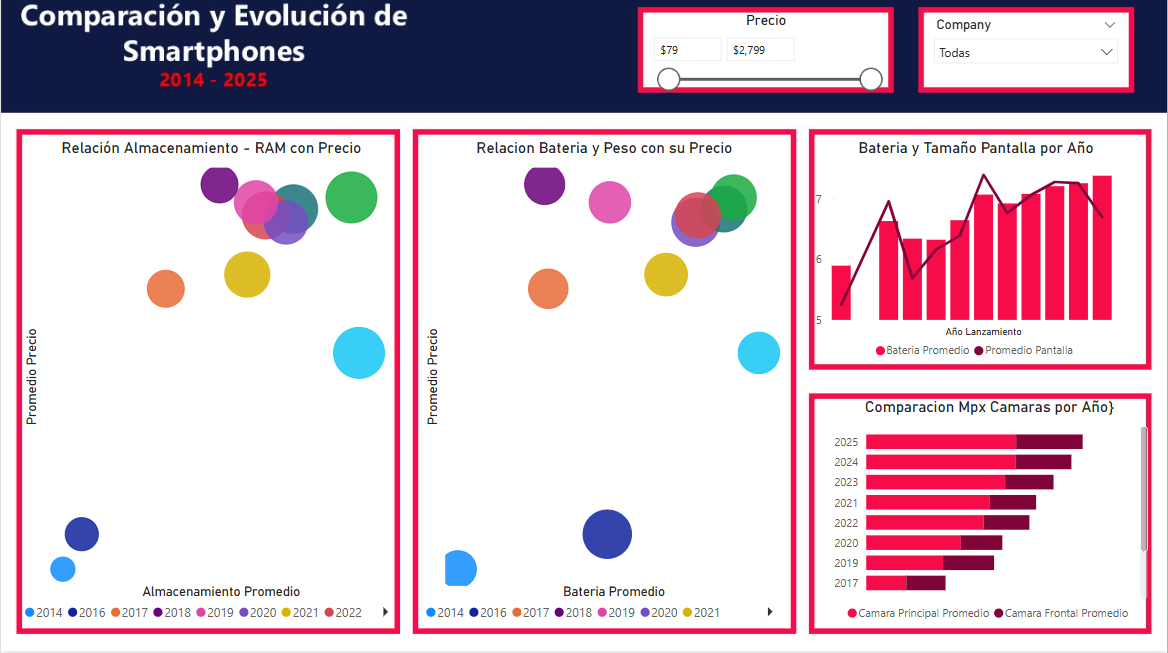

What the dashboard file says about the page in this screenshot:
{"tool":"powerbi","page":{"name":"Especificaciones","canvas":[1280,720],"ordinal":1},"visuals":[{"type":"scatterChart","title":"Relación Almacenamiento - RAM con Precio","fields":{"Series":["Cellphone_v2 (2).Año Lanzamiento"],"Size":["Medidas.Ram Promedio"],"X":["Medidas.Almacenamiento Promedio"],"Y":["Medidas.Promedio Precio"]},"box":[20.4,156.5,420.9,539.5],"z":0},{"type":"scatterChart","title":"Relacion Bateria y Peso con su Precio","fields":{"Y":["Medidas.Promedio Precio"],"X":["Medidas.Bateria Promedio"],"Size":["Medidas.Peso Promedio"],"Series":["Cellphone_v2 (2).Año Lanzamiento"]},"box":[461.7,156.5,402.4,539.5],"z":1000},{"type":"lineClusteredColumnComboChart","title":"Bateria y Tamaño Pantalla por Año","fields":{"Category":["Cellphone_v2 (2).Año Lanzamiento"],"Y2":["Medidas.Promedio Pantalla"],"Y":["Medidas.Bateria Promedio"]},"box":[889.2,156.4,362.3,251.1],"z":2000},{"type":"barChart","title":"Comparacion Mpx Camaras por Año}","fields":{"Category":["Cellphone_v2 (2).Año Lanzamiento"],"Y":["Medidas.Camara Principal Promedio","Medidas.Camara Frontal Promedio"]},"box":[906.9,440.3,356.7,255.7],"z":3000},{"type":"slicer","title":"Precio","fields":{"Values":["Cellphone_v2 (2).Precio USD"]},"box":[703.9,17.8,271.7,97.4],"z":4000},{"type":"slicer","fields":{"Values":["Cellphone_v2 (2).Company"]},"box":[1014.1,17.8,222.3,85.1],"z":5000}]}

Visuals, with their boxes in screenshot pixels (x1, y1, x2, y2), scaled from the page's 1280x720 canvas onto the 1168x653 screenshot:
"Relación Almacenamiento - RAM con Precio" scatterChart: BBox(19, 142, 403, 631)
"Relacion Bateria y Peso con su Precio" scatterChart: BBox(421, 142, 788, 631)
"Bateria y Tamaño Pantalla por Año" lineClusteredColumnComboChart: BBox(811, 142, 1142, 370)
"Comparacion Mpx Camaras por Año}" barChart: BBox(828, 399, 1153, 631)
"Precio" slicer: BBox(642, 16, 890, 104)
slicer - Cellphone_v2 (2).Company: BBox(925, 16, 1128, 93)
